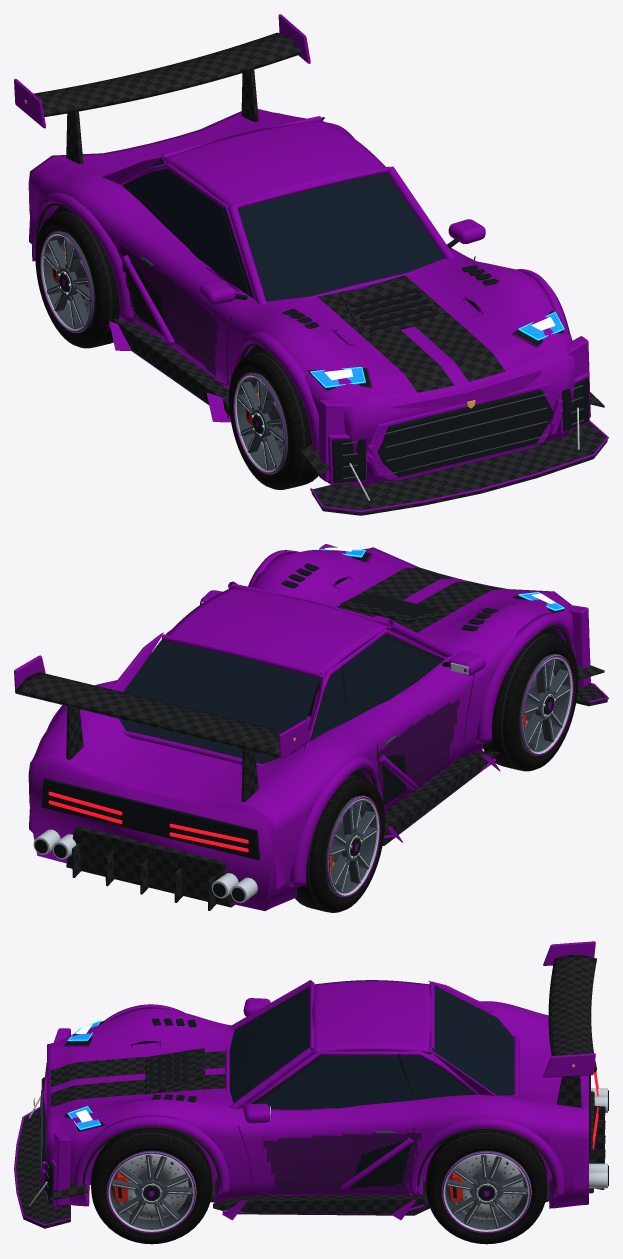
The model's file is 05_purple_exotic.glb.
The picture shows the model from 3 angles, top to bottom: view 1: azimuth 30°, elevation 25°; view 2: azimuth 150°, elevation 25°; view 3: azimuth 270°, elevation 25°; orthographic projection. The views are drawn at different scales.
Parts seen in each view (by area): view 1: Vehicle_Static_Body, Wheel_FL_Geometry, Wheel_RL_Geometry; view 2: Vehicle_Static_Body, Wheel_FL_Geometry, Wheel_RL_Geometry; view 3: Vehicle_Static_Body, Wheel_FR_Geometry, Wheel_RR_Geometry.
Boxes of the visible parts, x1,y1,x2,y2 form: Vehicle_Static_Body: [14, 14, 608, 515]; Wheel_FL_Geometry: [229, 350, 318, 489]; Wheel_RL_Geometry: [35, 210, 119, 348]; Vehicle_Static_Body: [14, 544, 608, 910]; Wheel_FL_Geometry: [482, 632, 578, 771]; Wheel_RL_Geometry: [295, 774, 384, 912]; Vehicle_Static_Body: [14, 941, 608, 1228]; Wheel_FR_Geometry: [91, 1128, 212, 1244]; Wheel_RR_Geometry: [426, 1130, 547, 1244].
Bounding box in the file's own units: 2.49 × 1.76 × 5.01.
17 materials, 3 textured.
